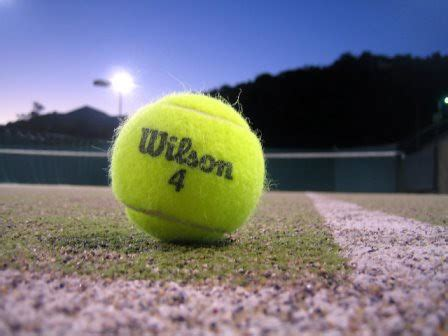tennis_ball: (110, 91, 266, 243)
